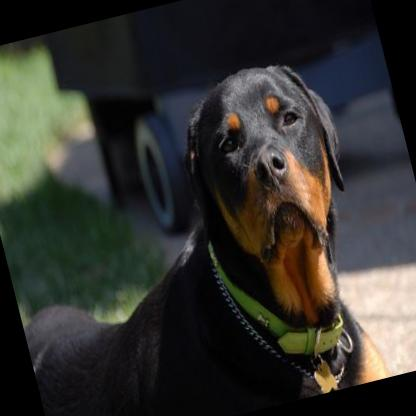Rottweiler: (0, 51, 394, 416)
